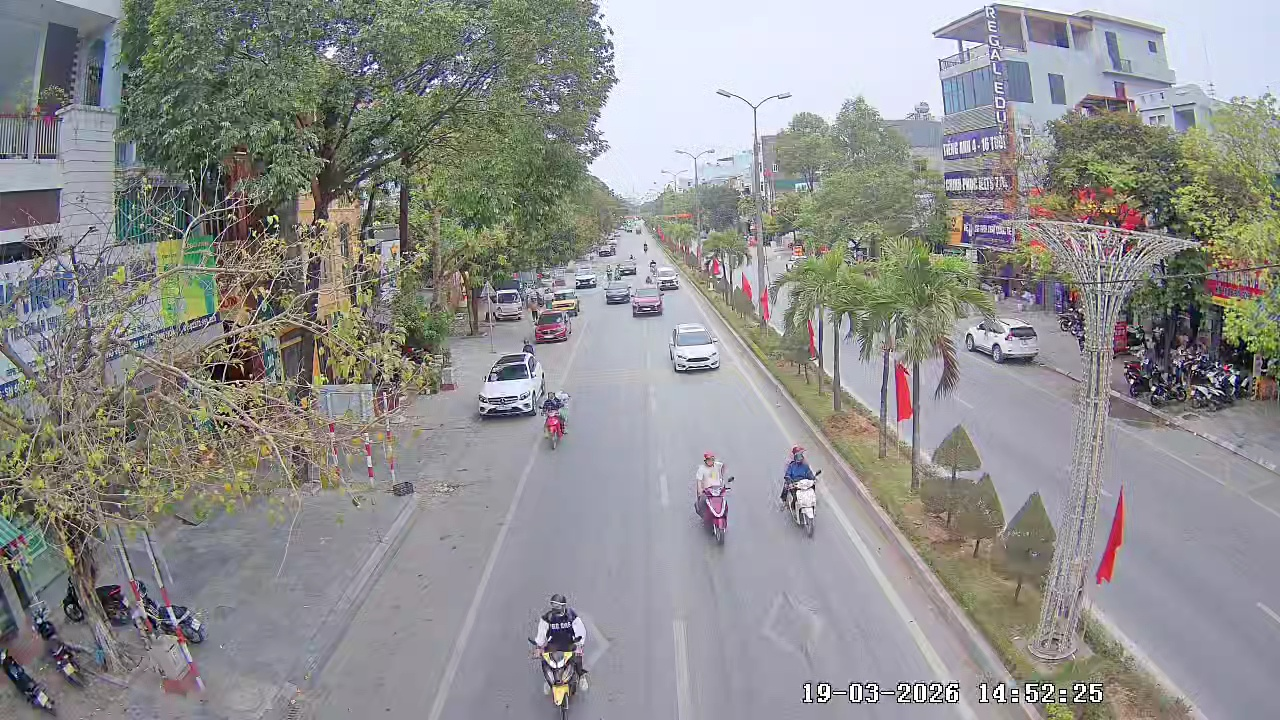car: (476, 352, 545, 419), (965, 320, 1040, 366), (667, 320, 721, 375), (488, 286, 527, 323), (533, 311, 570, 344), (631, 285, 665, 318), (604, 282, 627, 306)
motorbike: (525, 590, 593, 719), (690, 450, 737, 546), (776, 446, 824, 538), (541, 388, 570, 450)
